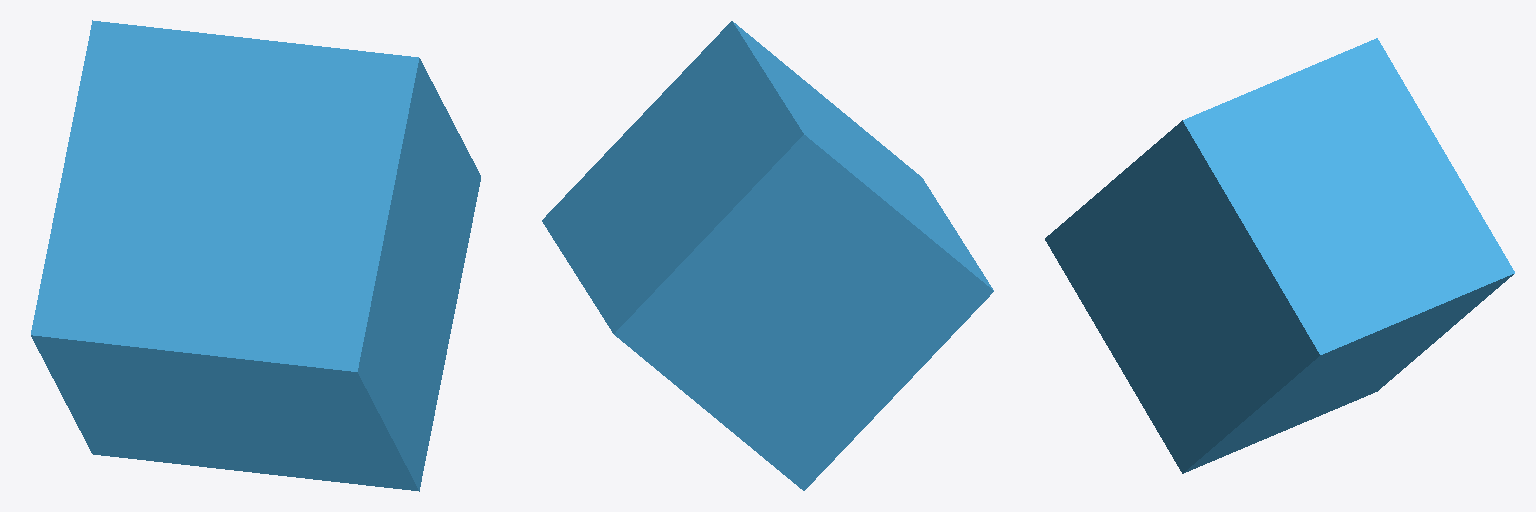
robot.urdf — body_test:
<?xml version="1.0" encoding="UTF-8"?>

<robot xmlns:xacro="http://www.ros.org/wiki/xacro" name="body_test">

  <link name="world"/>

  <link name="camera">
    <collision>
      <origin xyz="0 0 0" rpy="0 0 0"/>
      <geometry>
        <box size="0.1 0.1 0.1"/>
      </geometry>
    </collision>

    <visual>
      <origin xyz="0 0 0" rpy="0 0 0"/>
      <geometry>
        <box size="0.1 0.1 0.1"/>
      </geometry>
      <material name="red"/>
    </visual>

    <inertial>
      <mass value="1e-5" />
      <origin xyz="0 0 0" rpy="0 0 0"/>
      <inertia ixx="1e-6" ixy="0" ixz="0" iyy="1e-6" iyz="0" izz="1e-6" />
    </inertial>
  </link>

  <joint name="camera_joint" type="fixed">
    <parent link="world"/>
    <child link="camera"/>
    <origin xyz="-0.25 -0.25 0.3125" rpy="0.0 0.7853981633974483 0.7853981633974482"/>
  </joint>

  <!-- camera -->
  <gazebo reference="camera">
    <sensor type="camera" name="camera">
      <update_rate>30.0</update_rate>
      <camera name="camera">
        <horizontal_fov>1.3962634</horizontal_fov>
        <image>
          <width>800</width>
          <height>800</height>
          <format>R8G8B8</format>
        </image>
        <clip>
          <near>0.02</near>
          <far>300</far>
        </clip>
        <noise>
          <type>gaussian</type>
          <!-- Noise is sampled independently per pixel on each frame.
               That pixel's noise value is added to each of its color
               channels, which at that point lie in the range [0,1]. -->
          <mean>0.0</mean>
          <stddev>0.007</stddev>
        </noise>
      </camera>
      <plugin name="camera_controller" filename="libgazebo_ros_camera.so">
        <alwaysOn>true</alwaysOn>
        <updateRate>0.0</updateRate>
        <cameraName>camera</cameraName>
        <imageTopicName>image_raw</imageTopicName>
        <cameraInfoTopicName>camera_info</cameraInfoTopicName>
        <frameName>camera_link</frameName>
        <hackBaseline>0.07</hackBaseline>
        <distortionK1>0.0</distortionK1>
        <distortionK2>0.0</distortionK2>
        <distortionK3>0.0</distortionK3>
        <distortionT1>0.0</distortionT1>
        <distortionT2>0.0</distortionT2>
      </plugin>
    </sensor>
  </gazebo>

</robot>

--- What the picture shows (computed from the rendered views, not written in the file) ---
Views: 3 orthographic renders of the robot side by side, from view 1: azimuth 30°, elevation 25°; view 2: azimuth 150°, elevation 25°; view 3: azimuth 270°, elevation 25°.
Robot: body_test — 2 links, 1 joints (1 fixed); root link world; default pose: every joint at zero.
Links seen in each view (by area): view 1: camera; view 2: camera; view 3: camera.
Link boxes in pixels (x1=…): camera: x1=31, y1=20, x2=480, y2=491; camera: x1=542, y1=21, x2=993, y2=490; camera: x1=1045, y1=38, x2=1514, y2=473.
Size in the robot's own frame: 0.1707 by 0.1707 by 0.1414 metres.
Geometry: primitives only (box / cylinder / sphere), no mesh files.